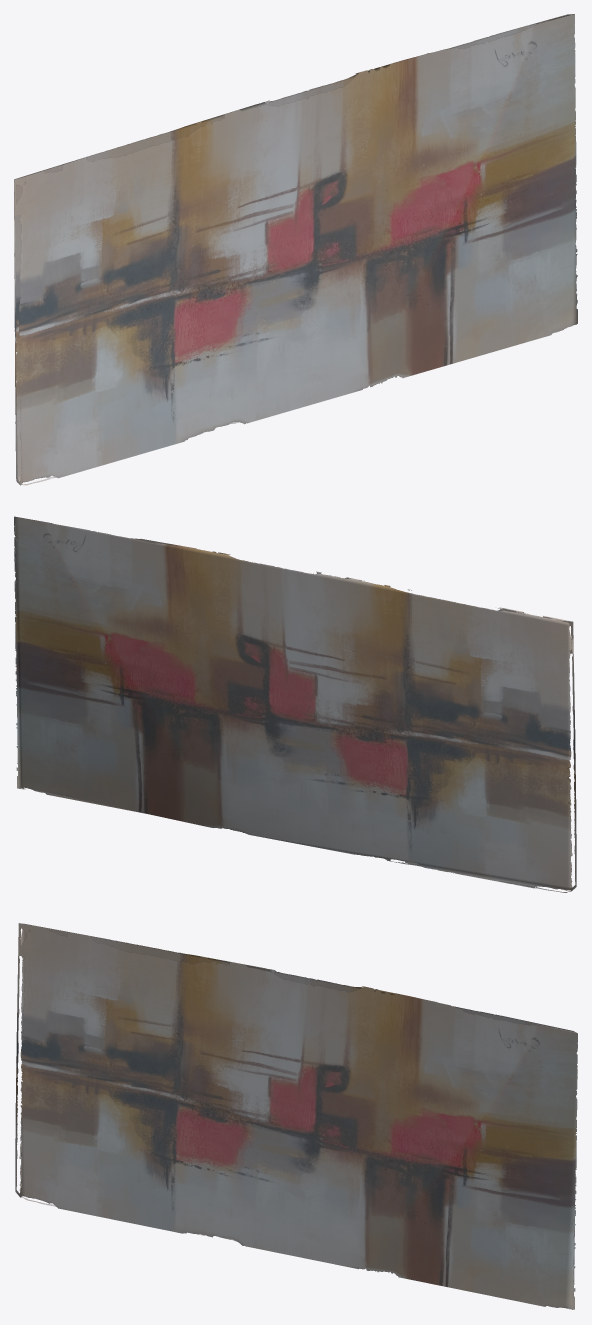
The model's file is painting.fbx.
3 renders of one model, top to bottom at view 1: azimuth 30°, elevation 25°; view 2: azimuth 150°, elevation 25°; view 3: azimuth 330°, elevation 25°, orthographic. The views are drawn at different scales.
Parts seen in each view (by area): view 1: Simplygon_Proxy_316cf4a7-0748-45fc-8de6-97bffa63e977; view 2: Simplygon_Proxy_316cf4a7-0748-45fc-8de6-97bffa63e977; view 3: Simplygon_Proxy_316cf4a7-0748-45fc-8de6-97bffa63e977.
Part boxes in pixels (left/top/right/bottom): Simplygon_Proxy_316cf4a7-0748-45fc-8de6-97bffa63e977: left=14, top=14, right=577, bottom=485; Simplygon_Proxy_316cf4a7-0748-45fc-8de6-97bffa63e977: left=14, top=516, right=576, bottom=892; Simplygon_Proxy_316cf4a7-0748-45fc-8de6-97bffa63e977: left=15, top=923, right=577, bottom=1309.
Size of the model in its own units: 3.44 by 1.73 by 0.3703.
Materials: 1 (1 with a texture image).
